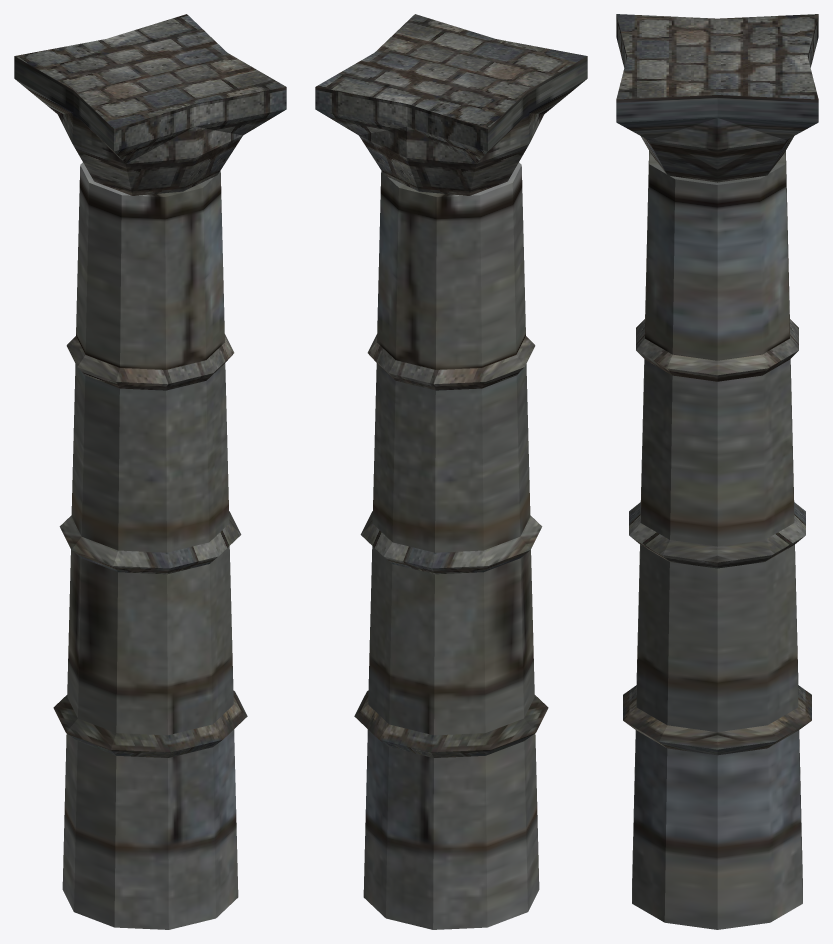
Rendered from Stone Pillar 1.fbx.
3 views of the same model, side by side, from view 1: azimuth 30°, elevation 25°; view 2: azimuth 150°, elevation 25°; view 3: azimuth 270°, elevation 25° (orthographic).
Parts seen in each view (by area): view 1: Pillar 1; view 2: Pillar 1; view 3: Pillar 1.
Boxes of the visible parts, left/top/right/bottom form: Pillar 1: left=14, top=14, right=286, bottom=929; Pillar 1: left=315, top=14, right=587, bottom=929; Pillar 1: left=616, top=14, right=818, bottom=929.
Size of the model in its own units: 239 by 1088 by 239.
Materials: 1 (1 with a texture image).
